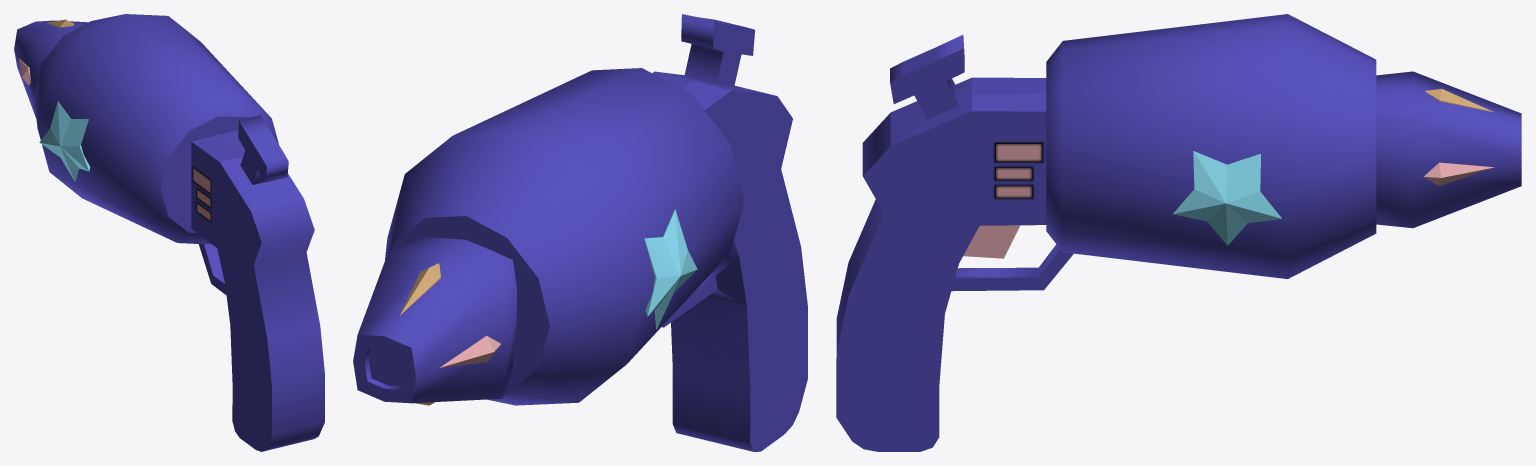
The model's file is gun.fbx.
The picture shows the model from 3 angles, left to right: view 1: azimuth 30°, elevation 25°; view 2: azimuth 150°, elevation 25°; view 3: azimuth 270°, elevation 25°; orthographic projection. The views are drawn at different scales.
Visible parts, largest first — view 1: gun; view 2: gun; view 3: gun.
Part boxes in pixels (bbox=[...]): gun: bbox=[14, 14, 324, 451]; gun: bbox=[353, 14, 807, 451]; gun: bbox=[836, 14, 1521, 451].
Bounding box in the file's own units: 14.23 × 24.03 × 36.41.
